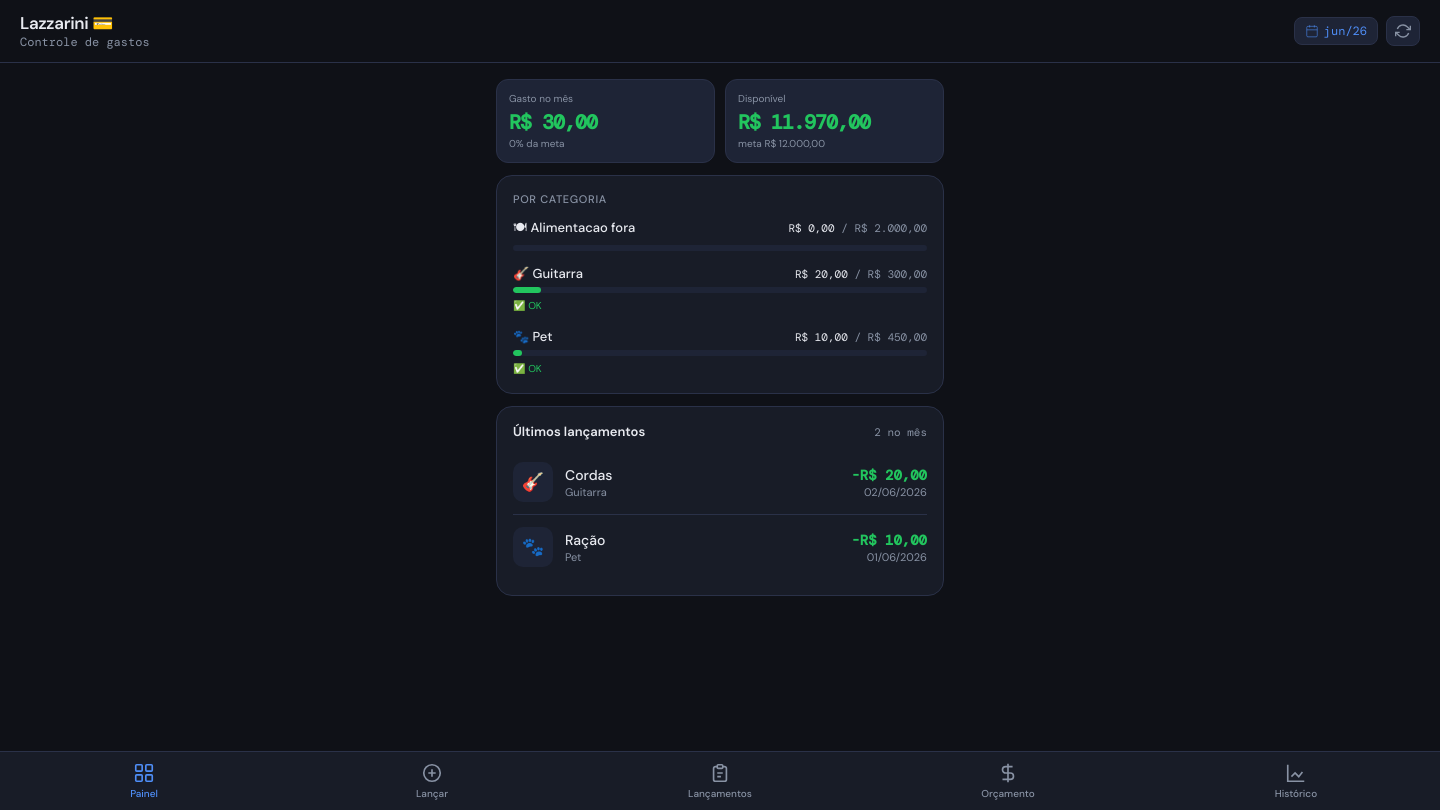
Scenario: Lançamentos › filtro sem resultados após excluir o último item da categoria
expect the text "Por categoria" is shown: met, box [513, 192, 607, 206]
Click the button "Lançamentos": {"x": 720, "y": 781} [576, 752, 864, 809]
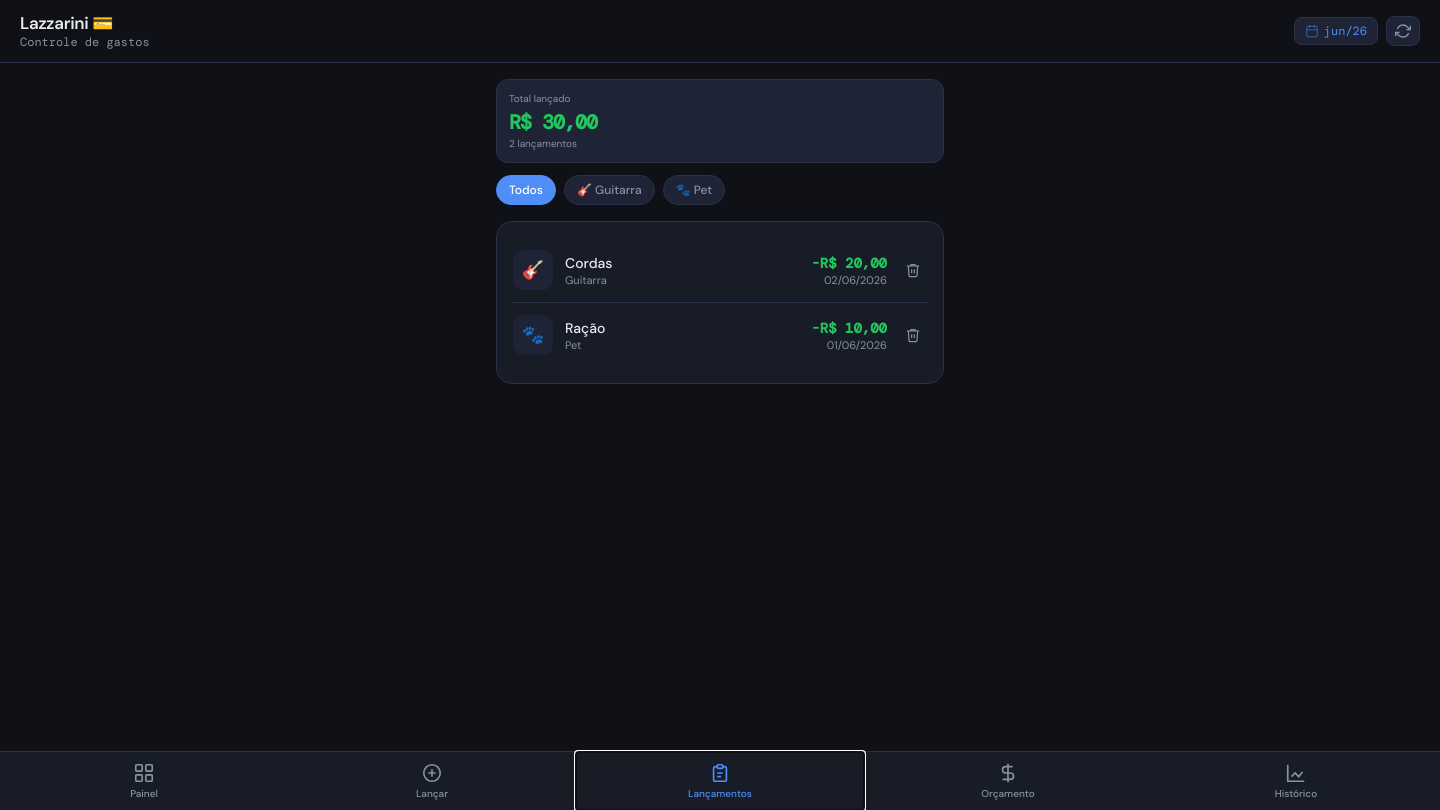
Click the button "🐾 Pet": {"x": 694, "y": 190} [663, 175, 725, 205]
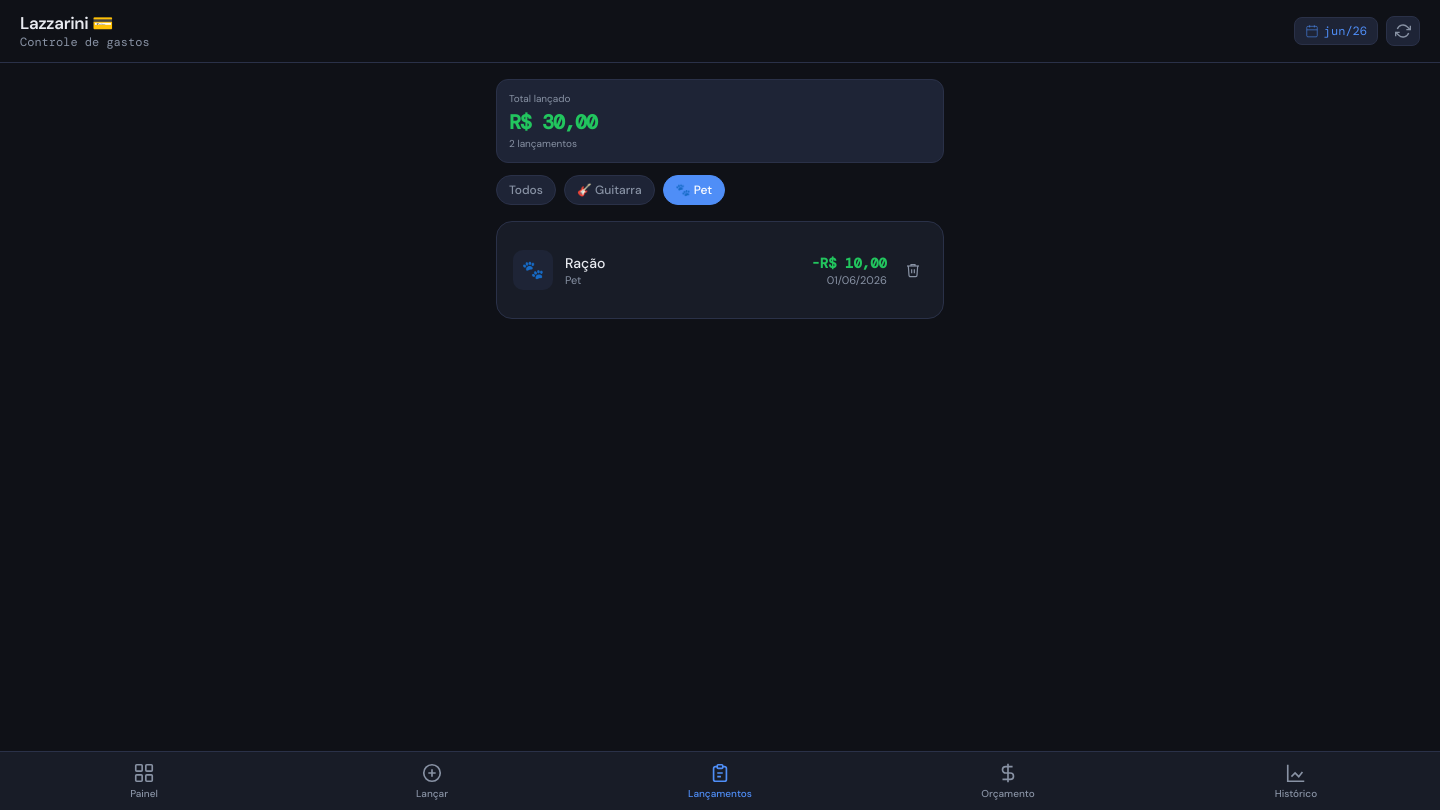
Click the button named "Excluir": {"x": 913, "y": 270} [899, 256, 927, 284]
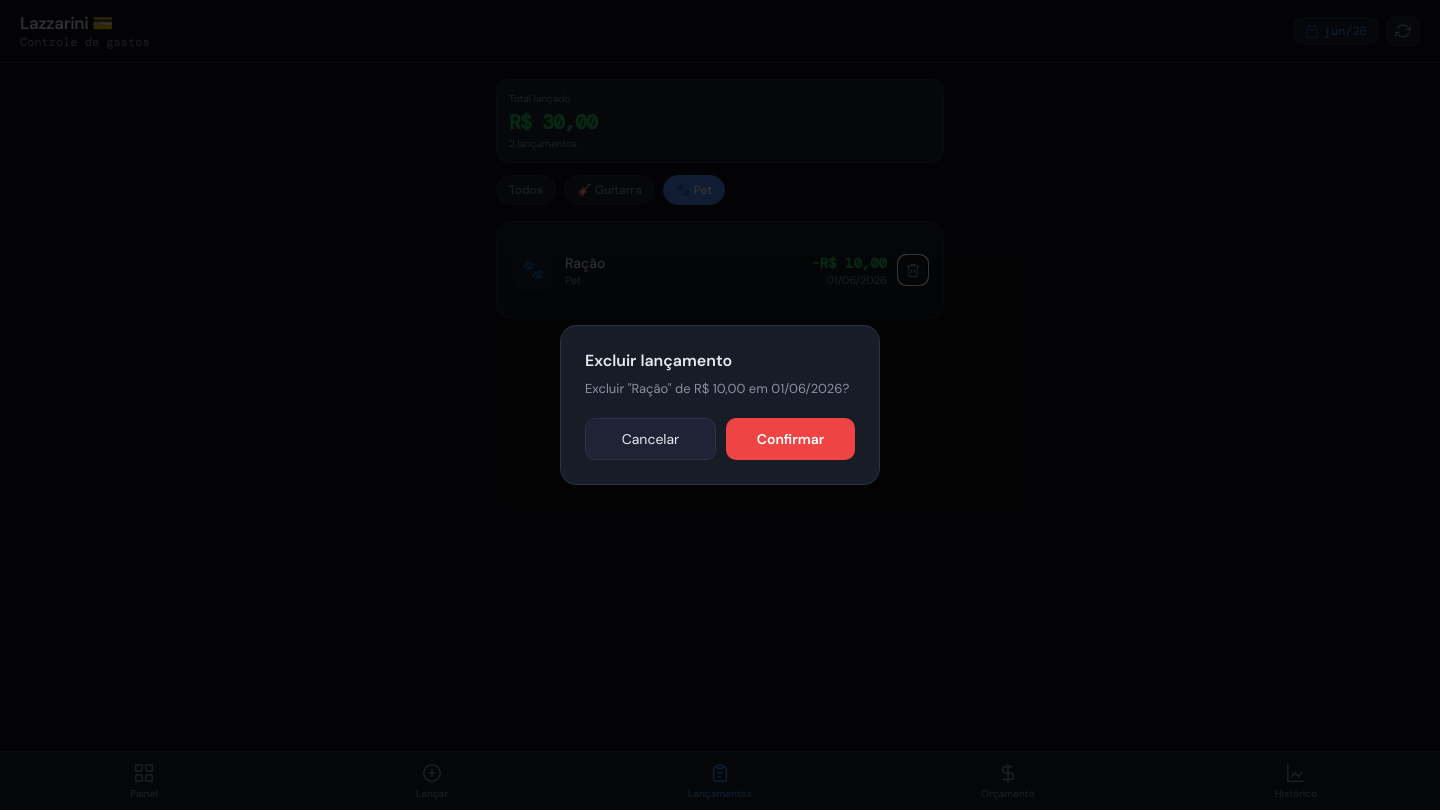
Click the button "Confirmar": {"x": 790, "y": 439} [726, 418, 855, 460]
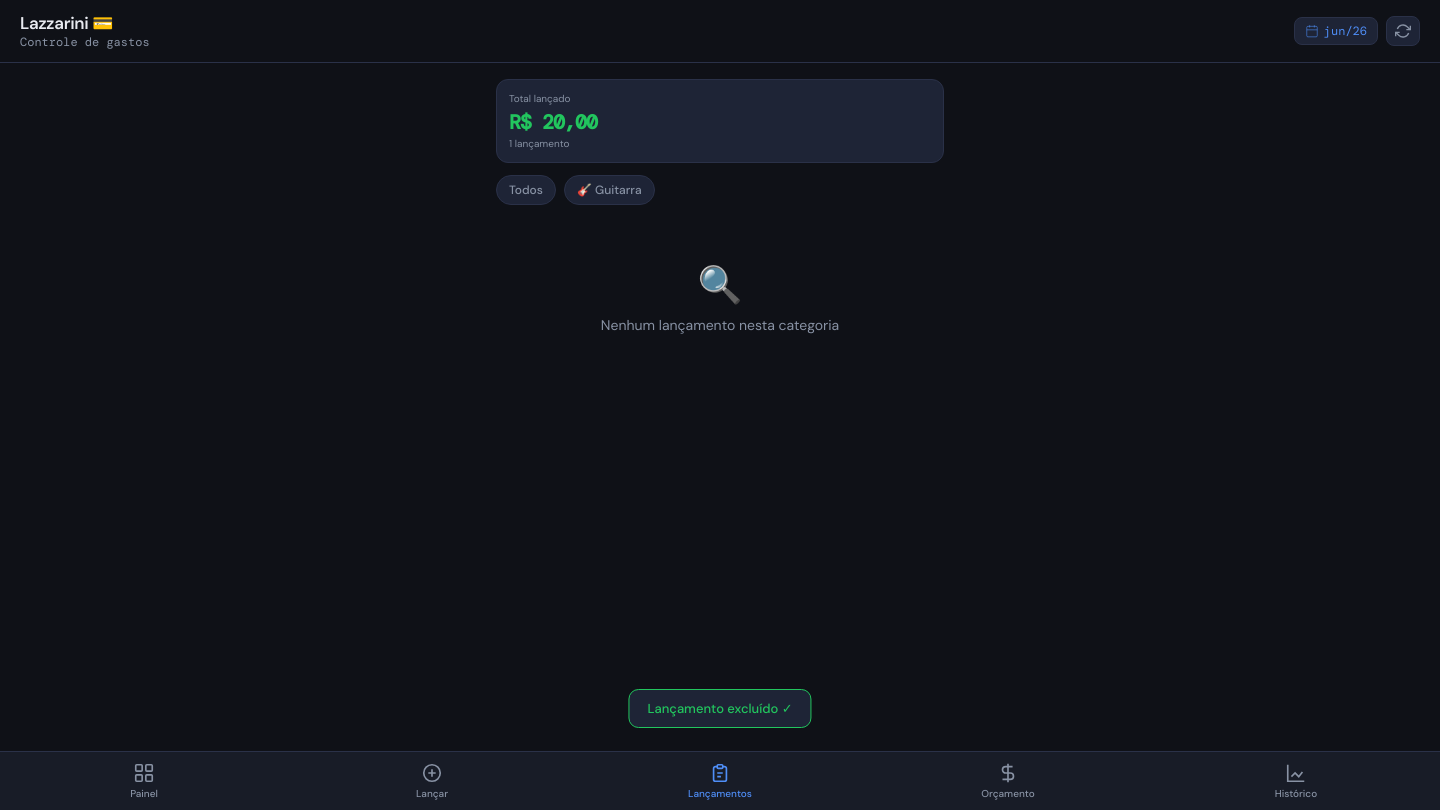
expect the message reads "Lançamento excluído ✓": met, box [647, 700, 792, 717]
expect the text "Nenhum lançamento nesta categoria" is shown: met, box [601, 316, 839, 334]
